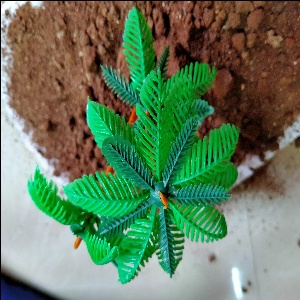plant: (31, 16, 239, 280)
